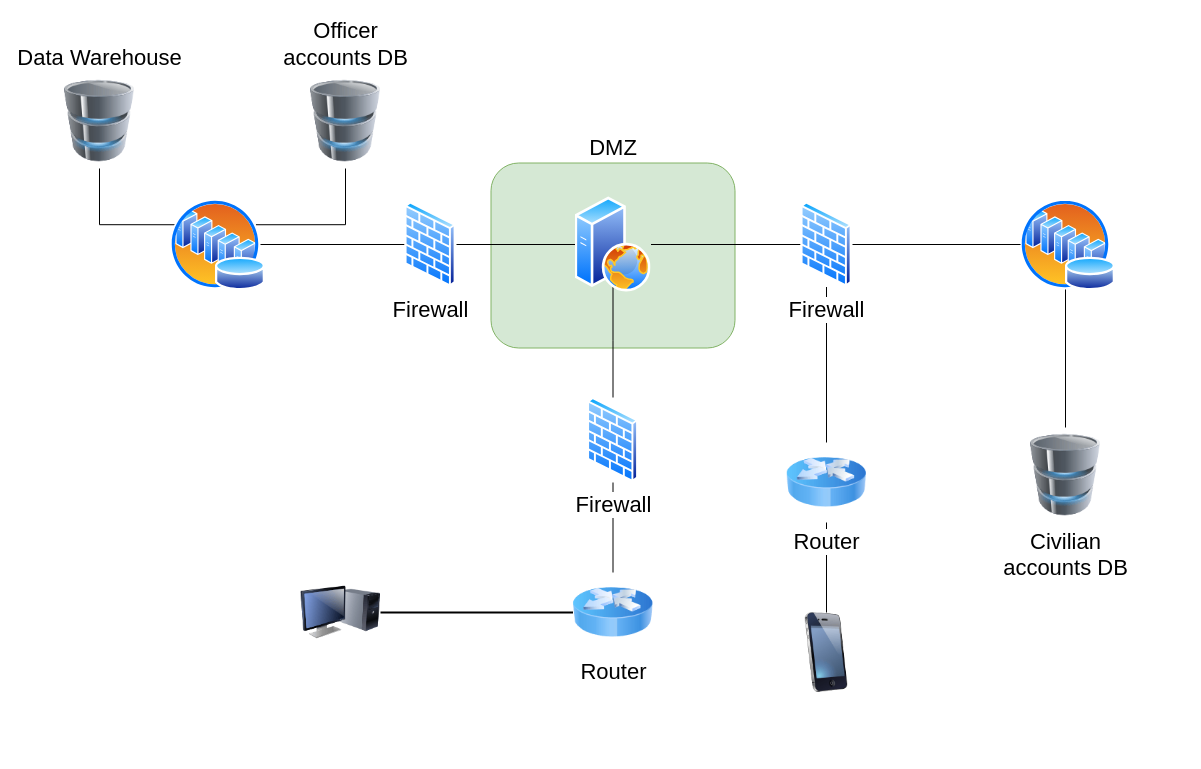
Some shapes in this 1201 by 769 pixel diagram are drawn without their labels. Here are the shapes that lost their labels. From the top down, the box of each, then its label:
(170, 199, 260, 289): Authorities' Data & Application Server
(574, 196, 650, 292): Authority's Web Server
(1020, 199, 1110, 289): SafeStreets Data Server
(300, 572, 380, 652): Authority's Web Application
(786, 612, 866, 692): Users' Mobile Application
